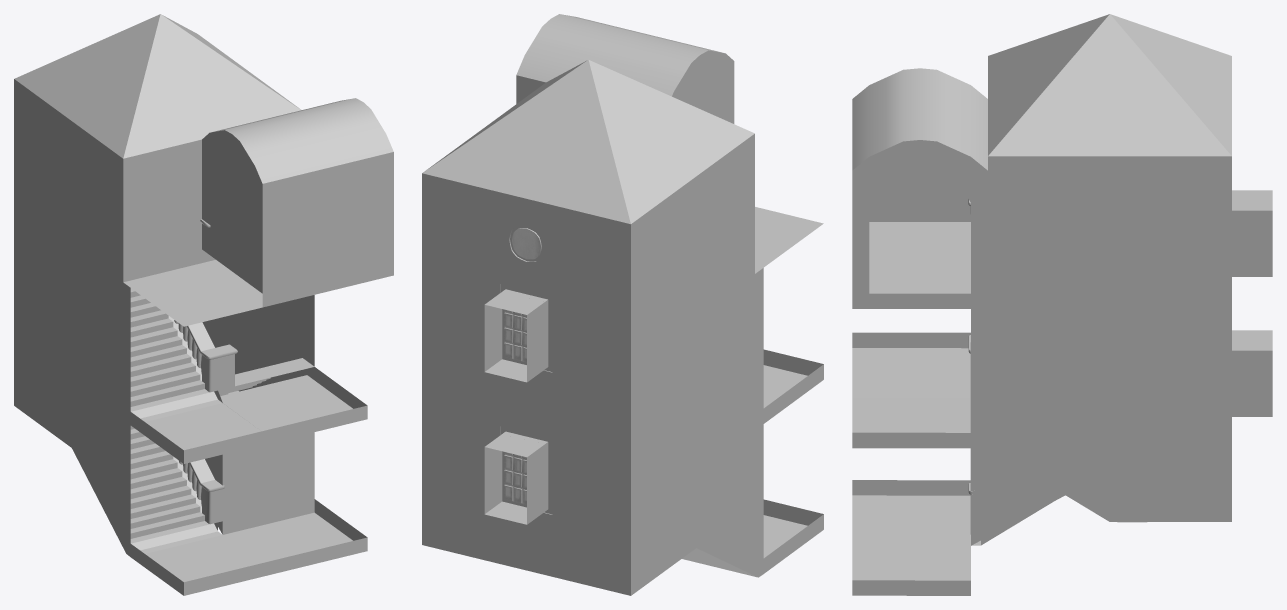
The model's file is stairs 1.fbx.
3 renders of one model, left to right at view 1: azimuth 30°, elevation 25°; view 2: azimuth 150°, elevation 25°; view 3: azimuth 270°, elevation 25°, orthographic. The views are drawn at different scales.
Visible parts, largest first — view 1: Cube; view 2: Cube; view 3: Cube.
Part boxes in pixels (x1=…): Cube: x1=14, y1=14, x2=393, y2=595; Cube: x1=422, y1=14, x2=823, y2=595; Cube: x1=852, y1=14, x2=1272, y2=595.
Size of the model in its own units: 800 by 1240 by 1731.
